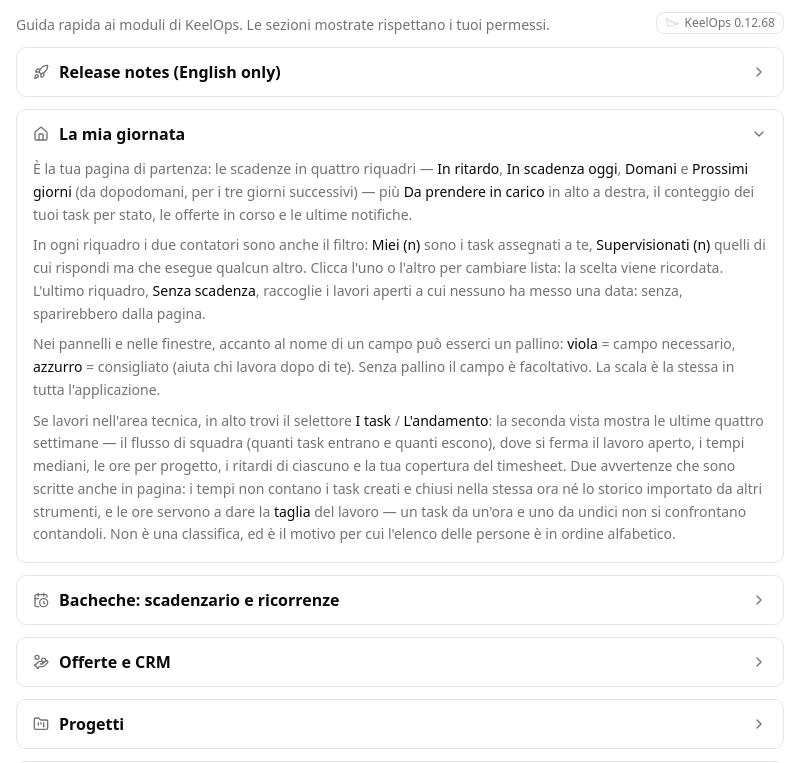
it: help page › community: release notes from the first two-edition build, without commercial lines
The width and height of the screenshot is (801, 763).
Click the button "Release notes (English only)" at (170, 72), box [17, 48, 783, 96]
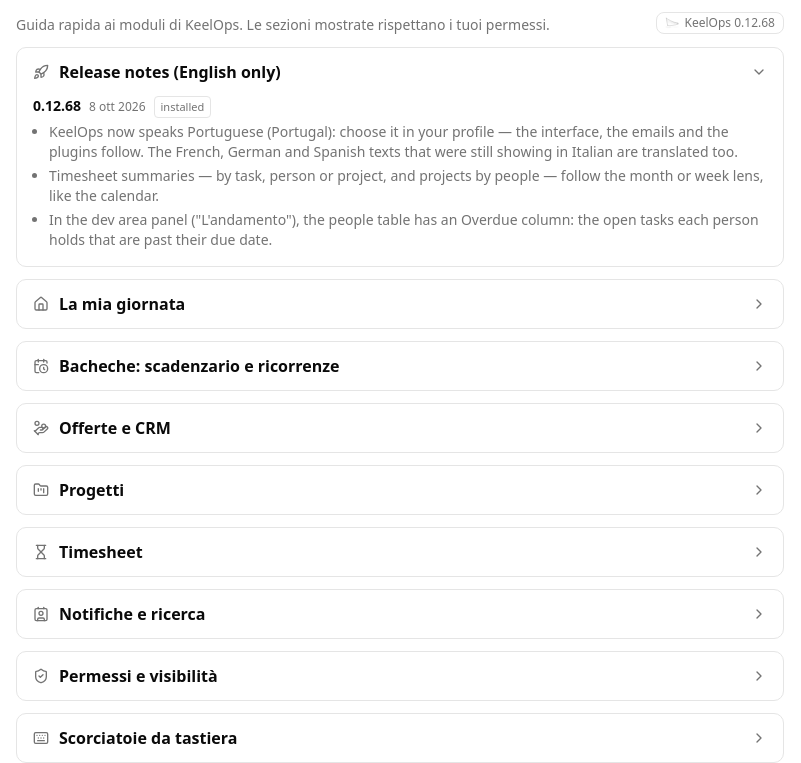
Expected: the list item "follow the month or week lens" is shown, [49, 166, 763, 205]
